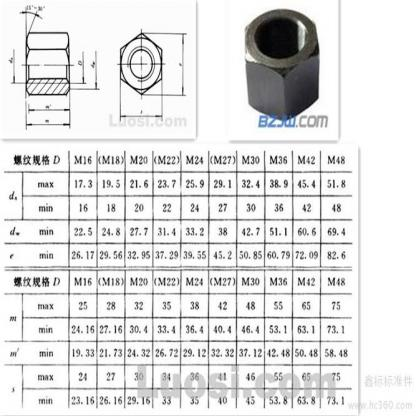FOD: (243, 7, 321, 124), (120, 31, 164, 97)
